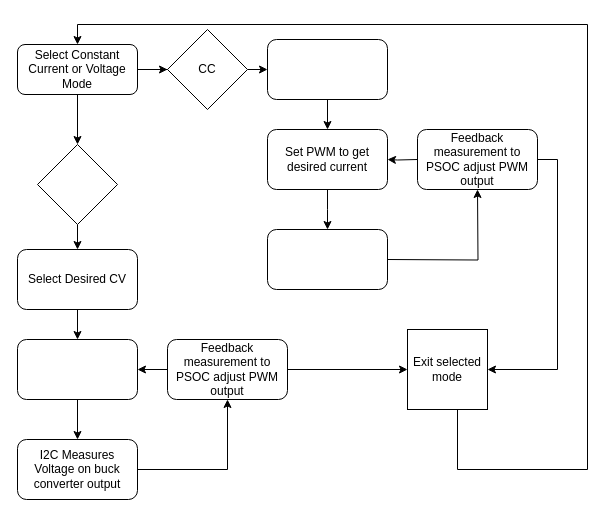
This 613x517 diagram has some shape labels left out. The centre of each missing label's shape, as x and y in pixels:
CV: the point at 77,184
I2C Measures current through shunt resistor: the point at 327,259
Select Desired CC: the point at 327,69
Set PWM to get desired voltage: the point at 77,369
